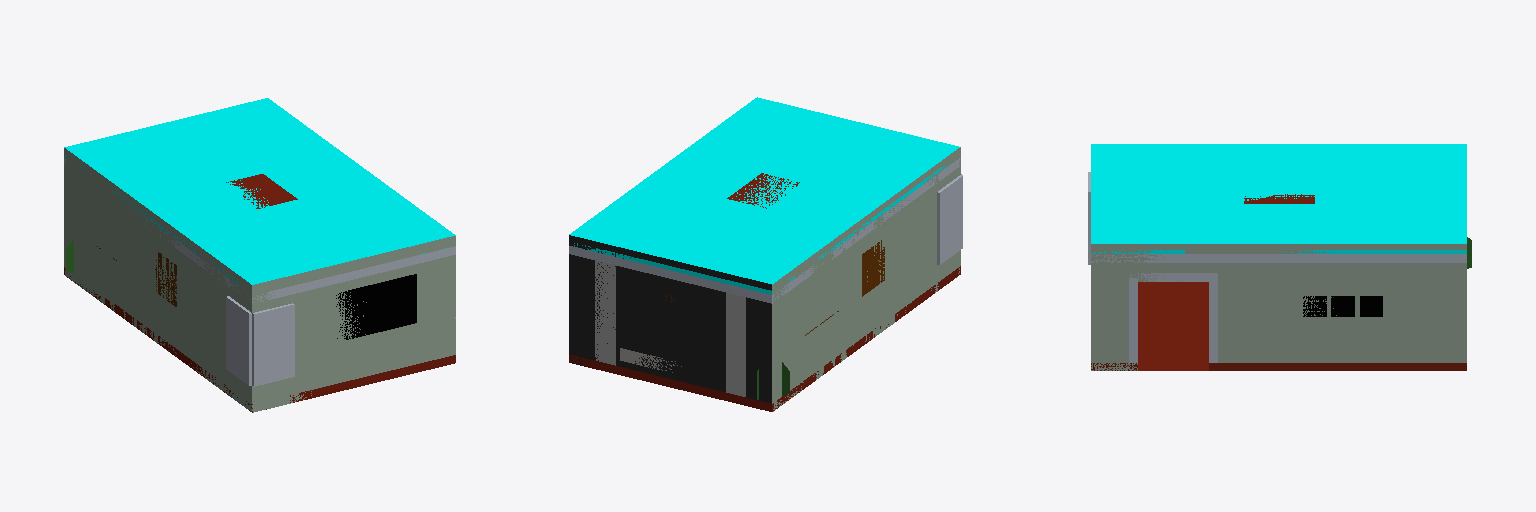
File: InteriorTest.obj
3 views of the same model, side by side, from view 1: azimuth 30°, elevation 25°; view 2: azimuth 150°, elevation 25°; view 3: azimuth 270°, elevation 25° (orthographic).
Visible parts, largest first — view 1: Plafon_Plane.005, Wall.001_Plane.001, Wall_Plane.004, Picture_Cube.168, Window.001_Cube.099, Window.002_Cube.011, UpperPlafon_Cube.006; view 2: Plafon_Plane.005, Wall.001_Plane.001, Wall.003_Plane.003, Misc_Cube.007, Misc.001_Cube.009, Window.002_Cube.011, Cermin_Cube.089, Cube.001_Cube.079, UpperPlafon_Cube.006; view 3: Plafon_Plane.005, Wall.002_Plane.002, Floor_Plane.
Boxes of the visible parts, x1=… form: Plafon_Plane.005: x1=64, y1=98, x2=455, y2=284; Wall.001_Plane.001: x1=64, y1=148, x2=251, y2=411; Wall_Plane.004: x1=252, y1=236, x2=455, y2=412; Picture_Cube.168: x1=336, y1=274, x2=416, y2=339; Window.001_Cube.099: x1=252, y1=303, x2=294, y2=386; Window.002_Cube.011: x1=226, y1=296, x2=251, y2=385; UpperPlafon_Cube.006: x1=226, y1=174, x2=297, y2=208; Plafon_Plane.005: x1=569, y1=97, x2=959, y2=284; Wall.001_Plane.001: x1=772, y1=147, x2=960, y2=411; Wall.003_Plane.003: x1=569, y1=235, x2=771, y2=403; Misc_Cube.007: x1=726, y1=293, x2=745, y2=396; Misc.001_Cube.009: x1=595, y1=261, x2=615, y2=365; Window.002_Cube.011: x1=937, y1=175, x2=962, y2=264; Cermin_Cube.089: x1=862, y1=240, x2=884, y2=296; Cube.001_Cube.079: x1=574, y1=243, x2=813, y2=294; UpperPlafon_Cube.006: x1=727, y1=173, x2=799, y2=208; Plafon_Plane.005: x1=1091, y1=144, x2=1466, y2=243; Wall.002_Plane.002: x1=1091, y1=244, x2=1466, y2=370; Floor_Plane: x1=1138, y1=282, x2=1208, y2=370.
Size of the model in its own units: 5.19 by 3 by 8.17.